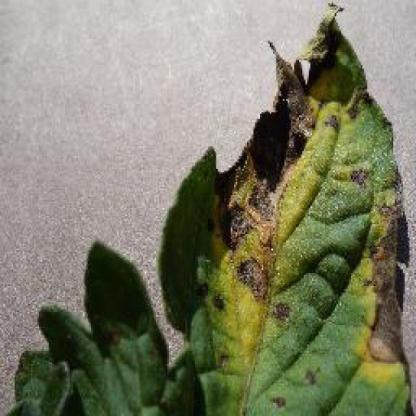Tomato_Blight: (9, 4, 412, 416)
